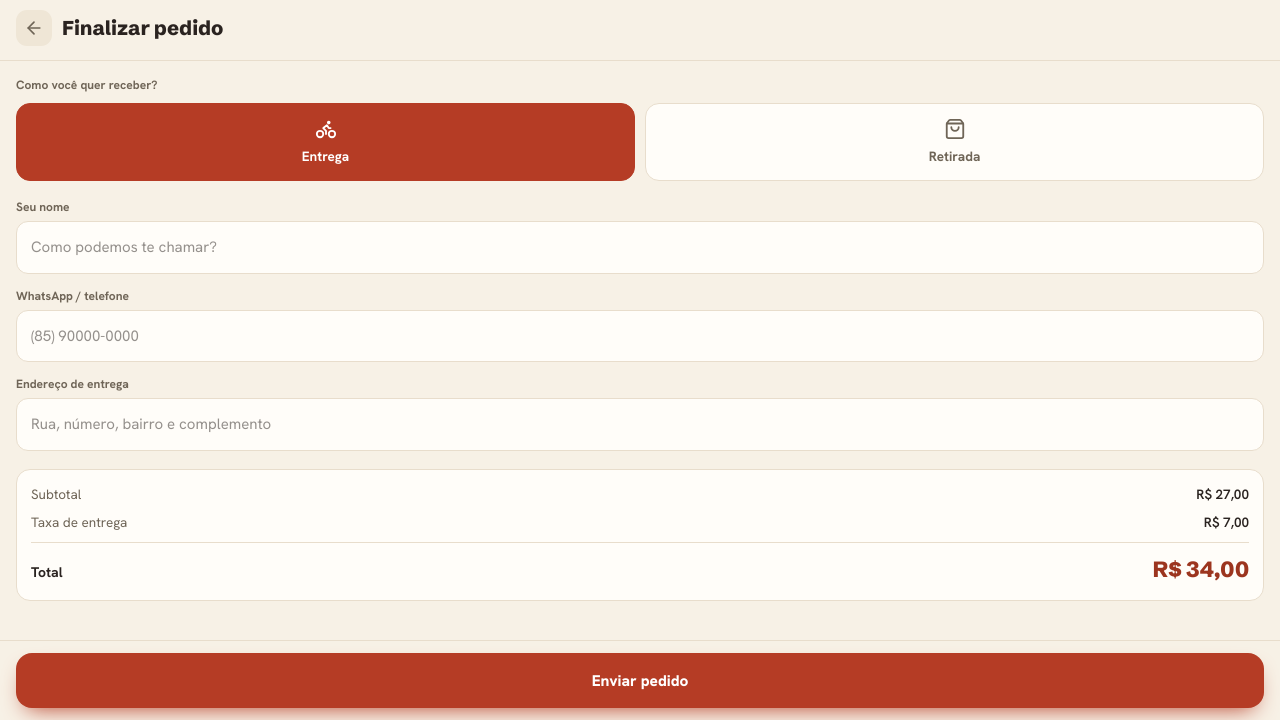
Test case: CheckoutScreen order persistence handoff › still identifies unavailable cart items before creating an order
Type "Cliente Teste" into the field labelled "Seu nome".
click(640, 248); type("Cliente Teste")  # box [16,221,1264,274]
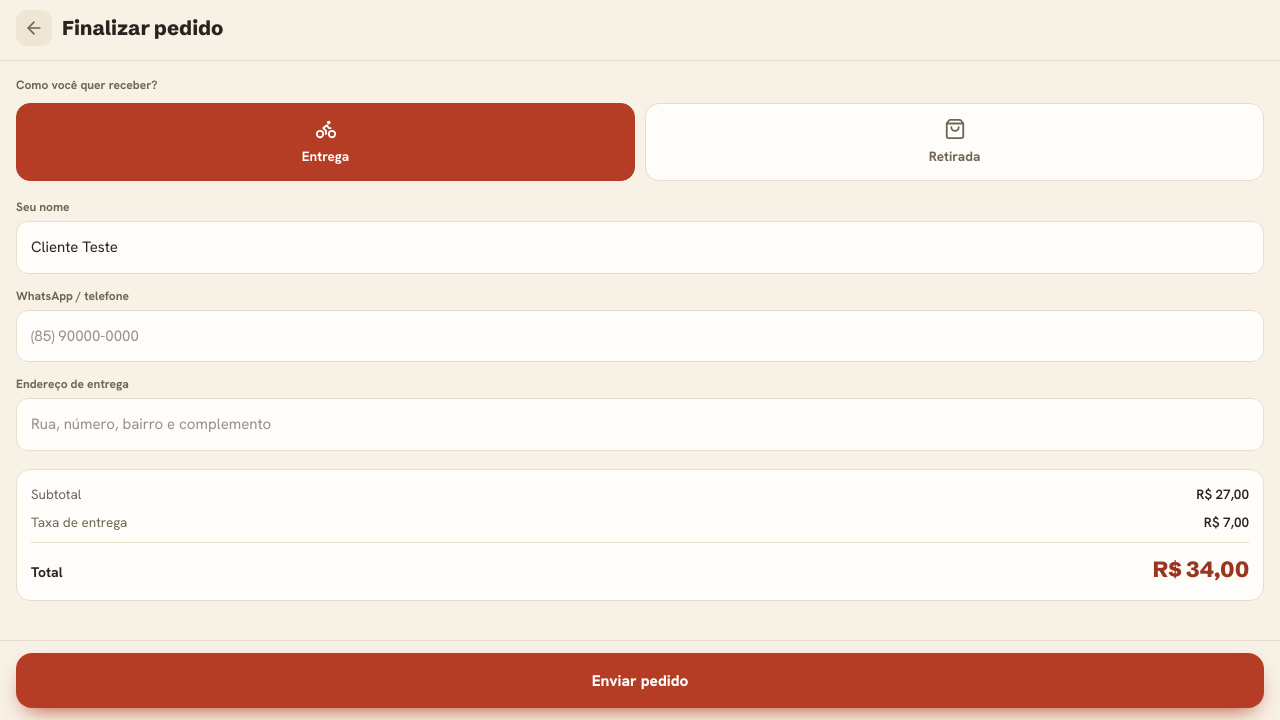
Type "(85) 98888-7777" into the field labelled "WhatsApp / telefone".
click(640, 336); type("(85) 98888-7777")  # box [16,310,1264,362]
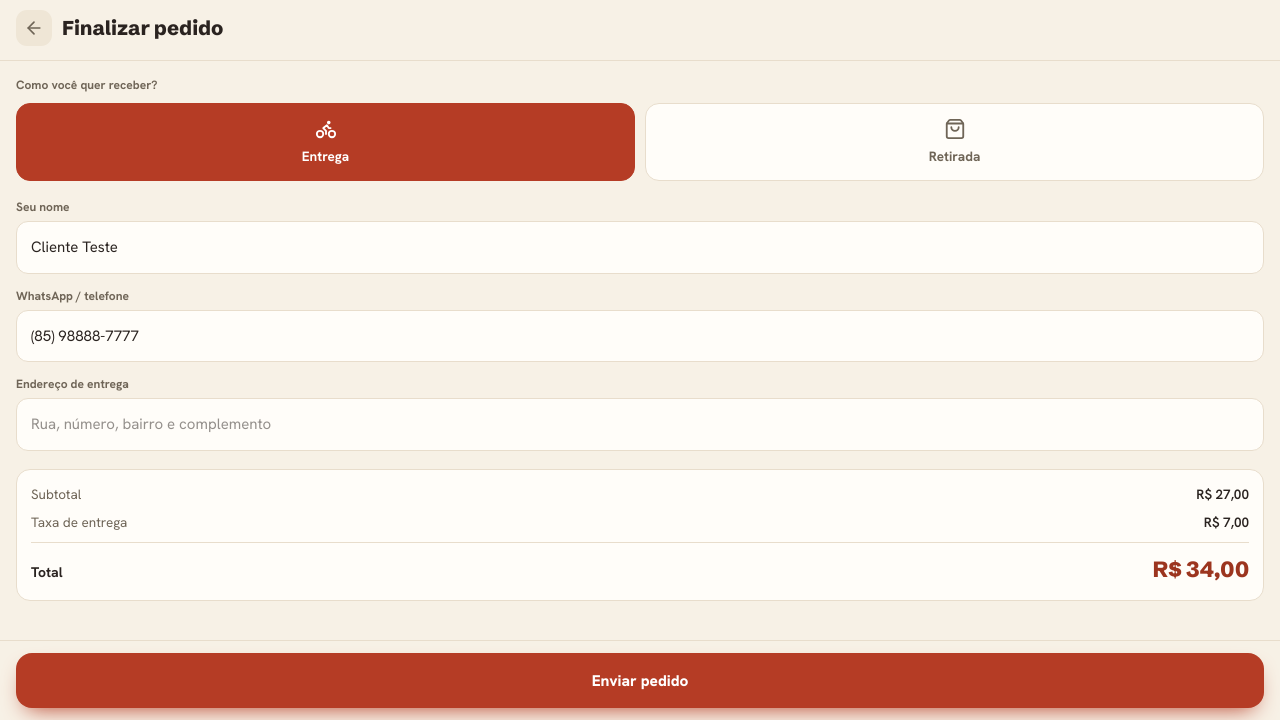
Type "Rua Um, 123" into the field labelled "Endereço de entrega".
click(640, 425); type("Rua Um, 123")  # box [16,398,1264,451]
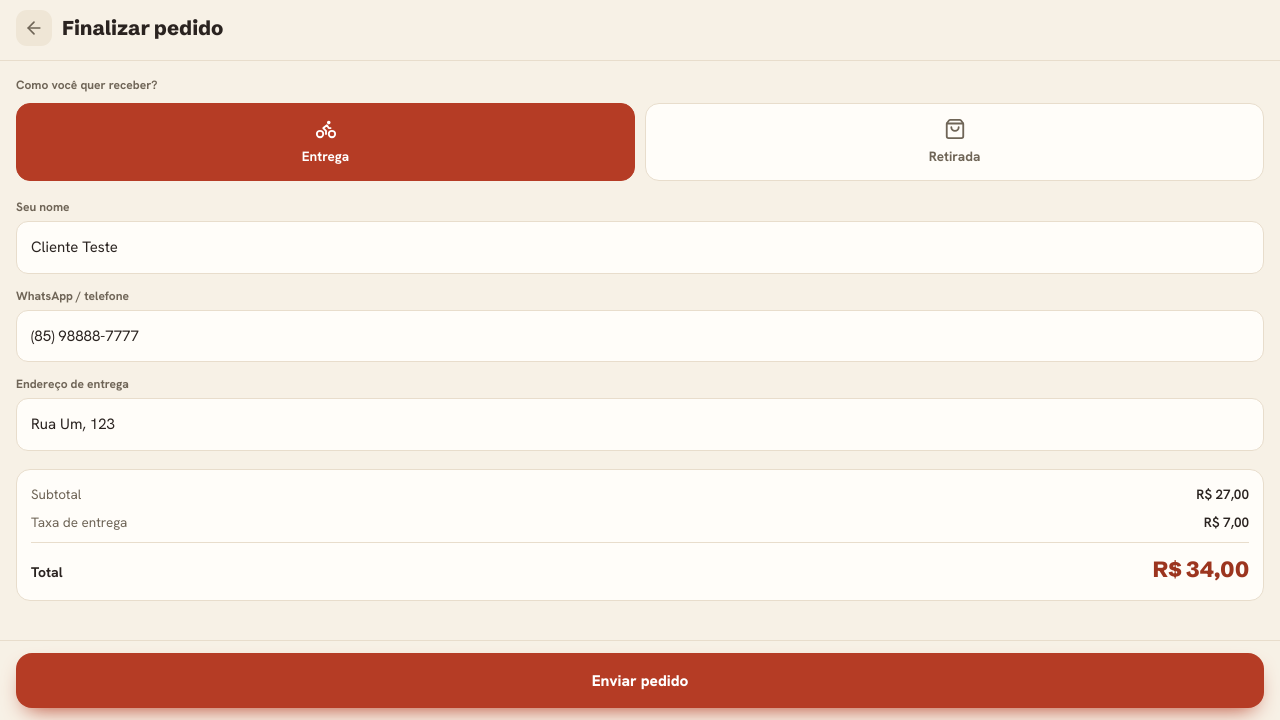
Click the button "Enviar pedido".
click(640, 680)  # box [16,653,1264,708]
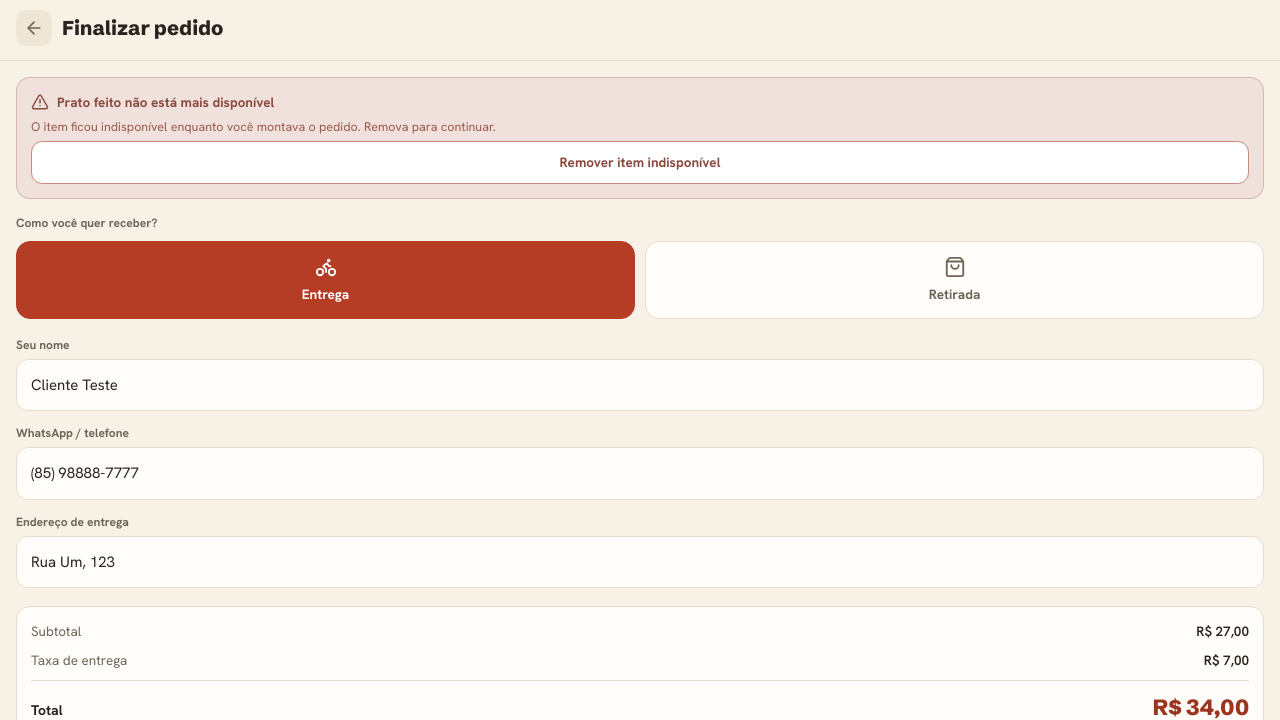
Result: the text "Prato feito não está mais disponível" is shown at [31,93,274,111]
